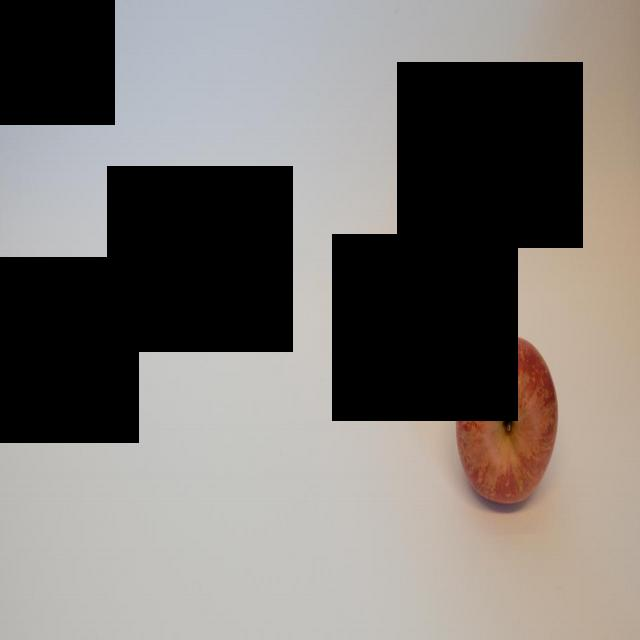apple: (456, 334, 558, 505)
